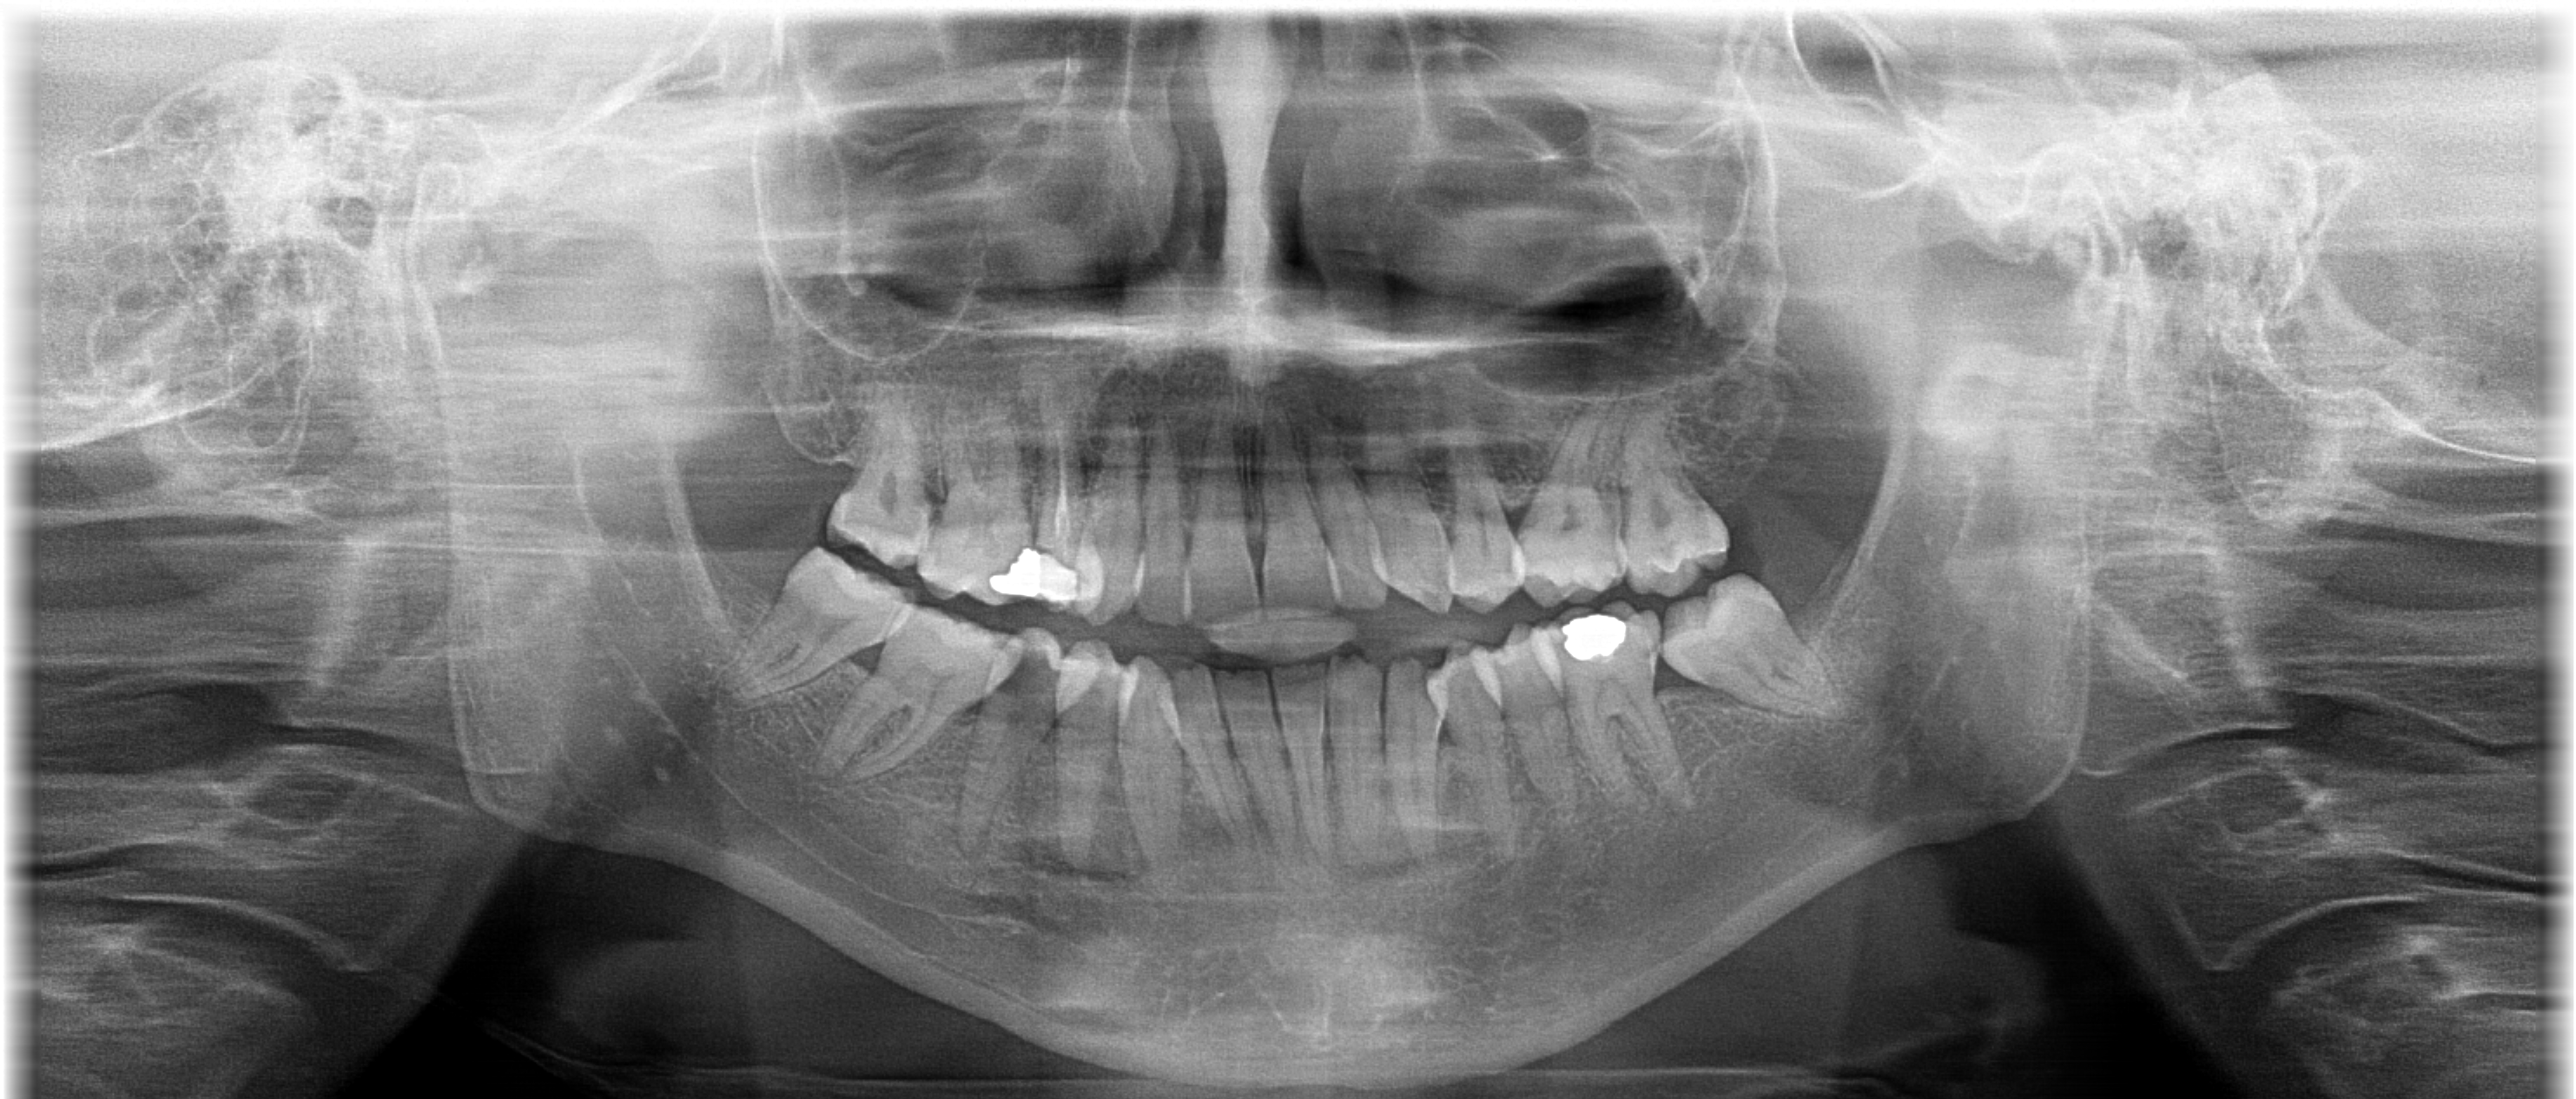apinamiento: (976, 624, 1212, 762), (1405, 623, 1613, 754), (997, 501, 1204, 631)
